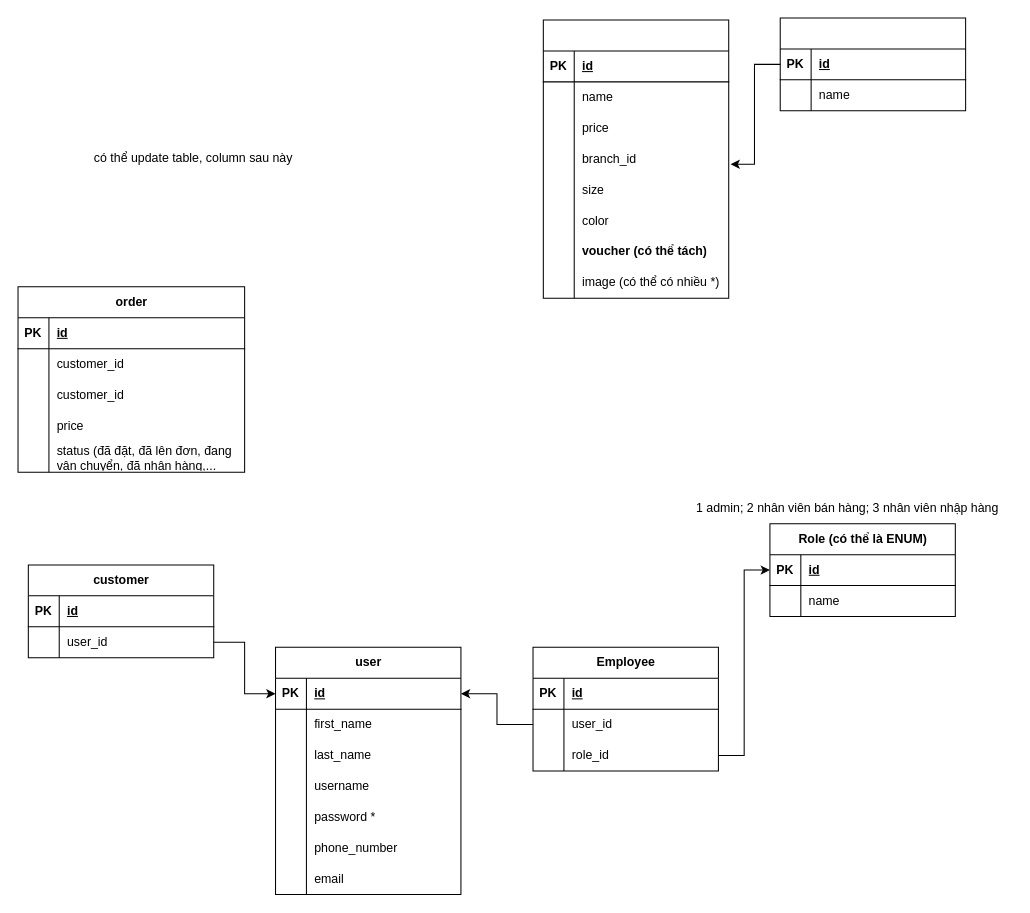
This 1030x913 diagram has some shape labels left out. The shapes that lost their labels are listed below. From the top down, each one's box as (x1, y1, x2, y2) in pixels, then its label:
(779, 17, 966, 111): branch
(542, 19, 729, 298): Product
